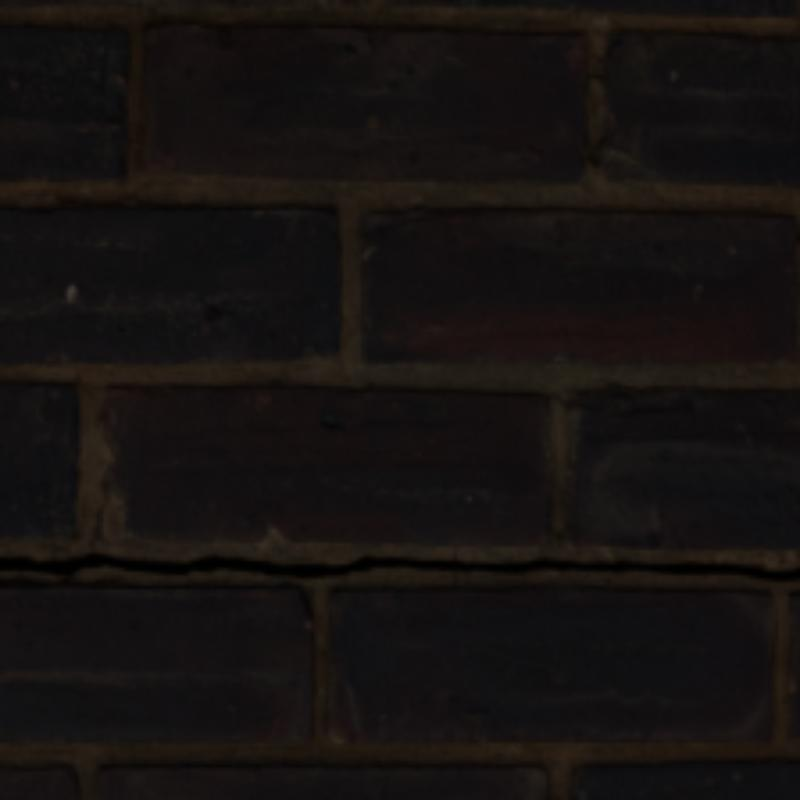crack: (0, 550, 796, 579)
